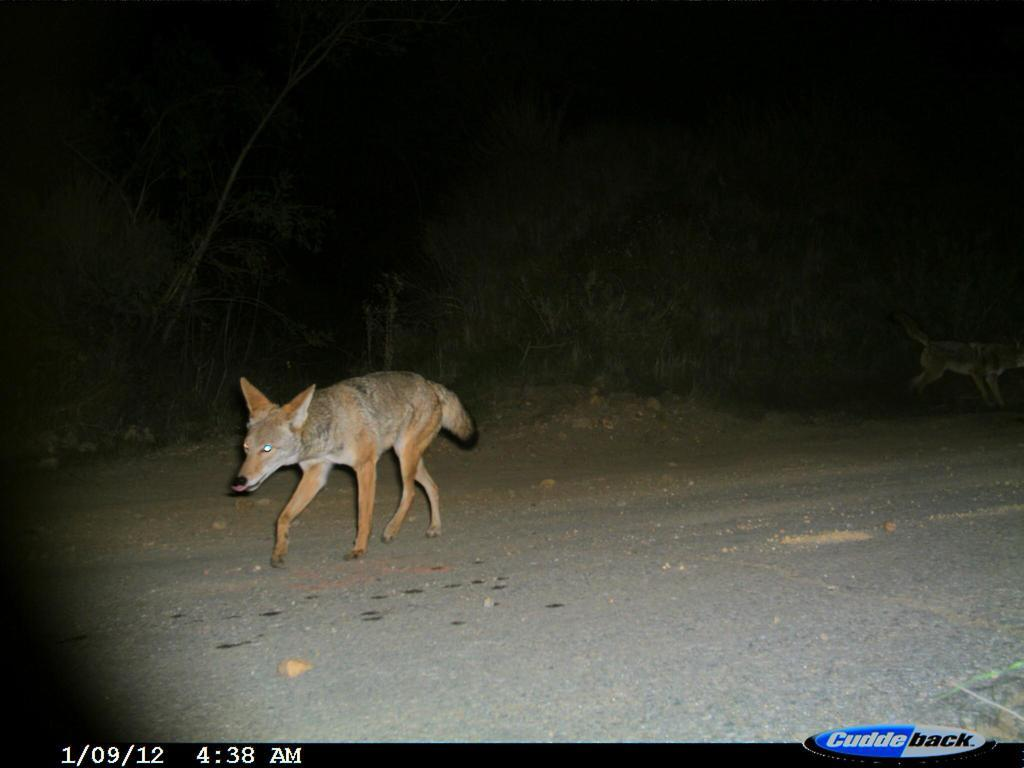coyote: (212, 358, 484, 578)
